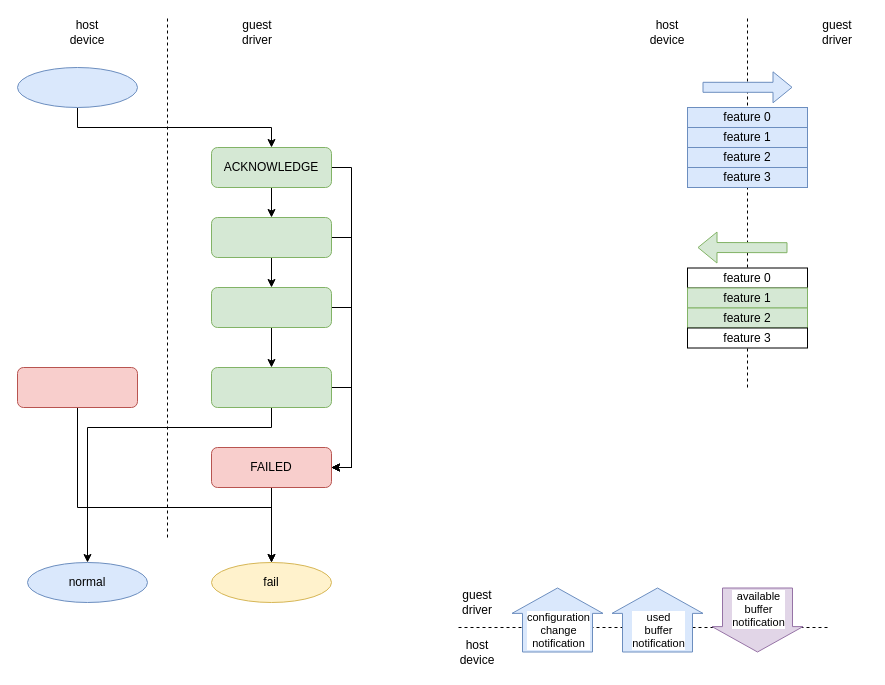
Image size: 885x685. Some labels were removed from this diagram. The centre of each missing label's shape, as x and y in pixels:
"DEVICE_NEEDS_ RESET" belongs at pixel 77 387.
"DRIVER" belongs at pixel 271 237.
"DRIVER_OK" belongs at pixel 271 387.
"FEATURES_OK" belongs at pixel 271 307.
"start" belongs at pixel 77 87.
